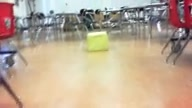cube: (86, 32, 108, 52)
